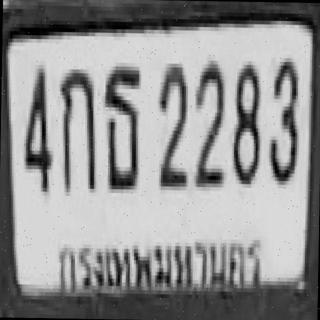A01: (56, 63, 96, 190)
A24: (102, 62, 139, 189)
N02: (192, 58, 223, 185), (155, 60, 186, 186)
N03: (267, 54, 298, 181)
N04: (22, 65, 52, 192)
N08: (230, 61, 259, 184)
P04: (51, 217, 273, 304)
